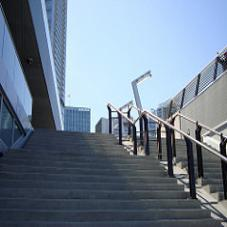Stair Up: (0, 129, 226, 227)
